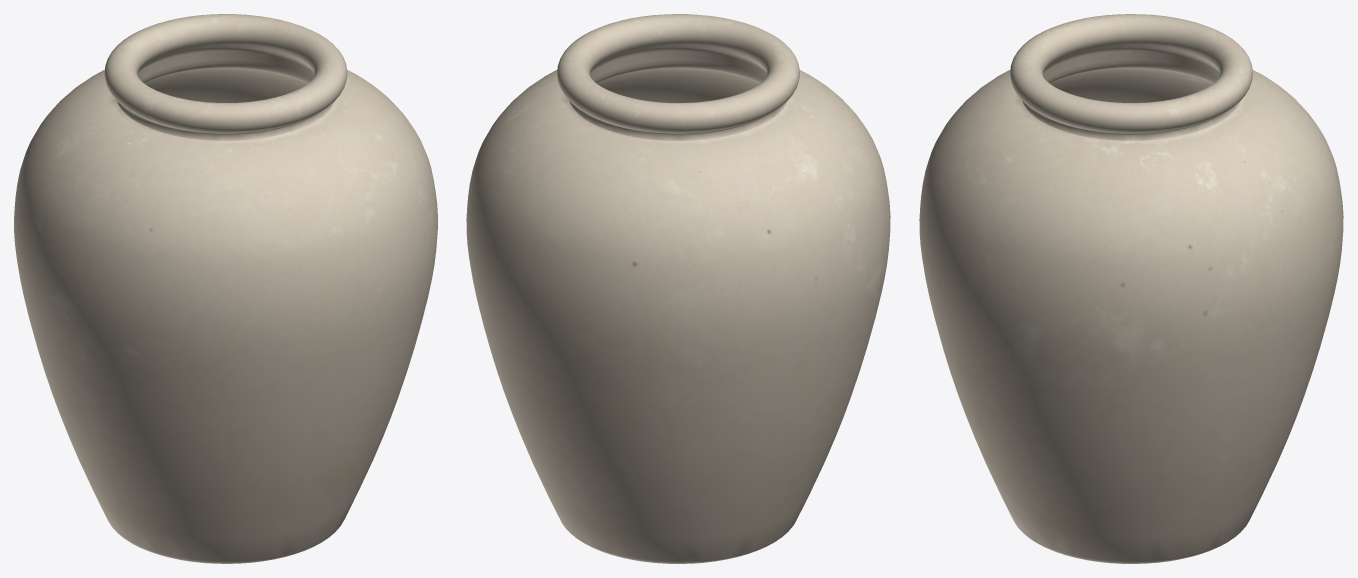
The model's file is VasoMedio.fbx.
3 renders of one model, left to right at view 1: azimuth 30°, elevation 25°; view 2: azimuth 150°, elevation 25°; view 3: azimuth 270°, elevation 25°, orthographic.
Parts seen in each view (by area): view 1: VasoMedio; view 2: VasoMedio; view 3: VasoMedio.
Boxes of the visible parts, x1,y1,x2,y2 form: VasoMedio: [14, 14, 437, 563]; VasoMedio: [466, 14, 890, 563]; VasoMedio: [919, 14, 1343, 563].
Bounding box in the file's own units: 48.58 × 57.77 × 48.58.
